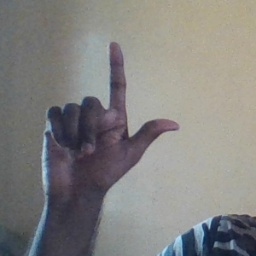L: (37, 40, 181, 186)
